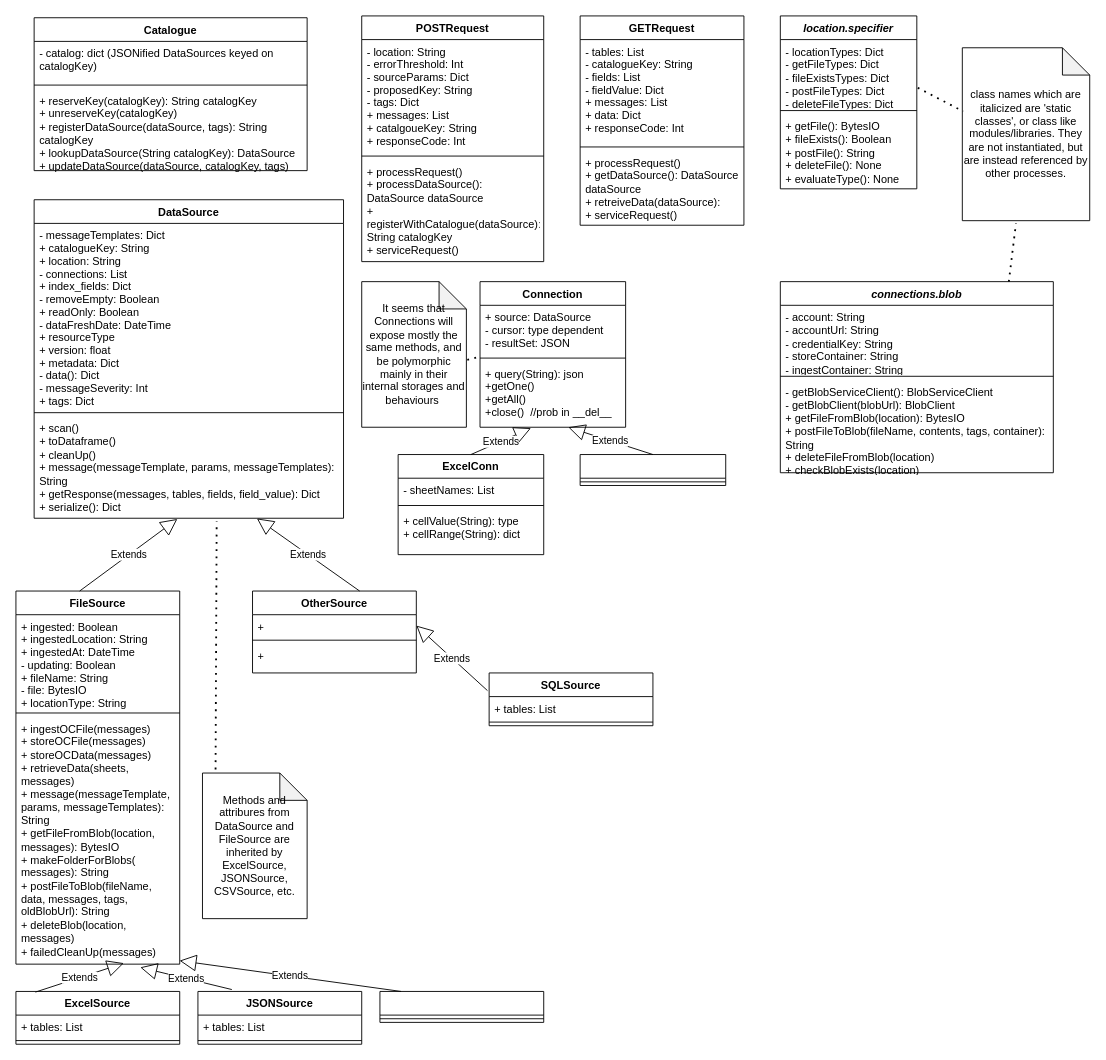
Some shapes in this 1106 by 1060 pixel diagram are drawn without their labels. The centre of each missing label's shape, as x and y in pixels:
CSVSource: the point at 461,1006
JSONConn: the point at 652,469
